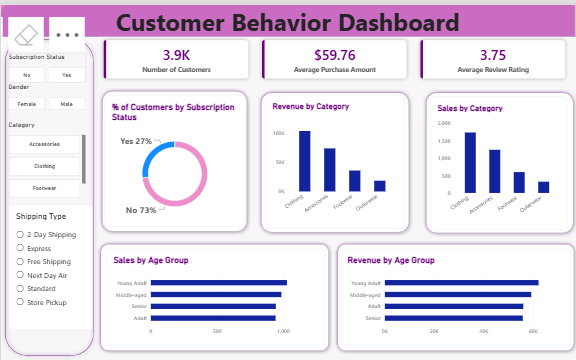

This screenshot's page, from the dashboard's own definition file:
{"tool":"powerbi","page":{"name":"Page 1","canvas":[1920,1080],"ordinal":0},"visuals":[{"type":"cardVisual","fields":{"Data":["public customer.Number of Customers","public customer.Average Purchase Amount","public customer.Average Review Rating"]},"box":[215,65,1050,108.3],"z":0},{"type":"shape","box":[0,0,1283.3,70],"z":1000},{"type":"textbox","box":[810,47.5,743,150],"z":2000},{"type":"textbox","box":[1331.1,20,588.9,57.8],"z":3000},{"type":"textbox","box":[0,0,1283.3,70],"z":4000},{"type":"shape","box":[215,181.7,338.3,328.3],"z":5000},{"type":"donutChart","title":"% of Customers by Subscription Status","fields":{"Category":["public customer.subscription_status"],"Y":["CountNonNull(public customer.customer_id)"]},"box":[228.3,200,313.3,293.3],"z":6000},{"type":"shape","box":[568.3,186.7,345,326.7],"z":7000},{"type":"shape","box":[935,185,343.3,328.3],"z":8000},{"type":"clusteredColumnChart","title":"Revenue by Category","fields":{"Category":["public customer.category"],"Y":["Sum(public customer.purchase_amount)"]},"box":[585,200,310,296.7],"z":9000},{"type":"clusteredColumnChart","title":"Sales by Category","fields":{"Category":["public customer.category"],"Y":["CountNonNull(public customer.customer_id)"]},"box":[953.3,201.7,306.7,296.7],"z":10000},{"type":"shape","box":[0,65,215,721.7],"z":11000},{"type":"advancedSlicerVisual","title":"Subscription Status","fields":{"Values":["public customer.subscription_status"]},"box":[16.7,106.7,171.7,66.7],"z":12000},{"type":"advancedSlicerVisual","title":"Gender","fields":{"Values":["public customer.gender"]},"box":[16.7,173.3,171.7,60],"z":13000},{"type":"advancedSlicerVisual","title":"Category","fields":{"Values":["public customer.category"]},"box":[16.7,255,171.7,171.7],"z":14000},{"type":"listSlicer","title":"Shipping Type","fields":{"Values":["public customer.shipping_type"]},"box":[15,441.7,186.7,278.3],"z":14001},{"type":"shape","box":[740,521.7,541.7,253.3],"z":14004},{"type":"shape","box":[213.3,521.7,523.3,253.3],"z":14005},{"type":"clusteredBarChart","title":"Sales by Age Group","fields":{"Category":["public customer.age_group"],"Y":["CountNonNull(public customer.customer_id)"]},"box":[231.7,540,485,215],"z":14006},{"type":"clusteredBarChart","title":"Revenue by Age Group","fields":{"Category":["public customer.age_group"],"Y":["Sum(public customer.purchase_amount)"]},"box":[753.3,540,511.7,215],"z":14007}]}

Visuals, with their boxes on the page's 1920x1080 design canvas (x1, y1, x2, y2). These are canvas units, not pixel positions in the 576x360 screenshot, which may show the page scaled, cropped or inside an application window:
cardVisual - public customer.Number of Customers x public customer.Average Purchase Amount: [215, 65, 1265, 173]
shape: [0, 0, 1283, 70]
textbox: [810, 48, 1553, 198]
textbox: [1331, 20, 1920, 78]
textbox: [0, 0, 1283, 70]
shape: [215, 182, 553, 510]
"% of Customers by Subscription Status" donutChart: [228, 200, 542, 493]
shape: [568, 187, 913, 513]
shape: [935, 185, 1278, 513]
"Revenue by Category" clusteredColumnChart: [585, 200, 895, 497]
"Sales by Category" clusteredColumnChart: [953, 202, 1260, 498]
shape: [0, 65, 215, 787]
"Subscription Status" advancedSlicerVisual: [17, 107, 188, 173]
"Gender" advancedSlicerVisual: [17, 173, 188, 233]
"Category" advancedSlicerVisual: [17, 255, 188, 427]
"Shipping Type" listSlicer: [15, 442, 202, 720]
shape: [740, 522, 1282, 775]
shape: [213, 522, 737, 775]
"Sales by Age Group" clusteredBarChart: [232, 540, 717, 755]
"Revenue by Age Group" clusteredBarChart: [753, 540, 1265, 755]
